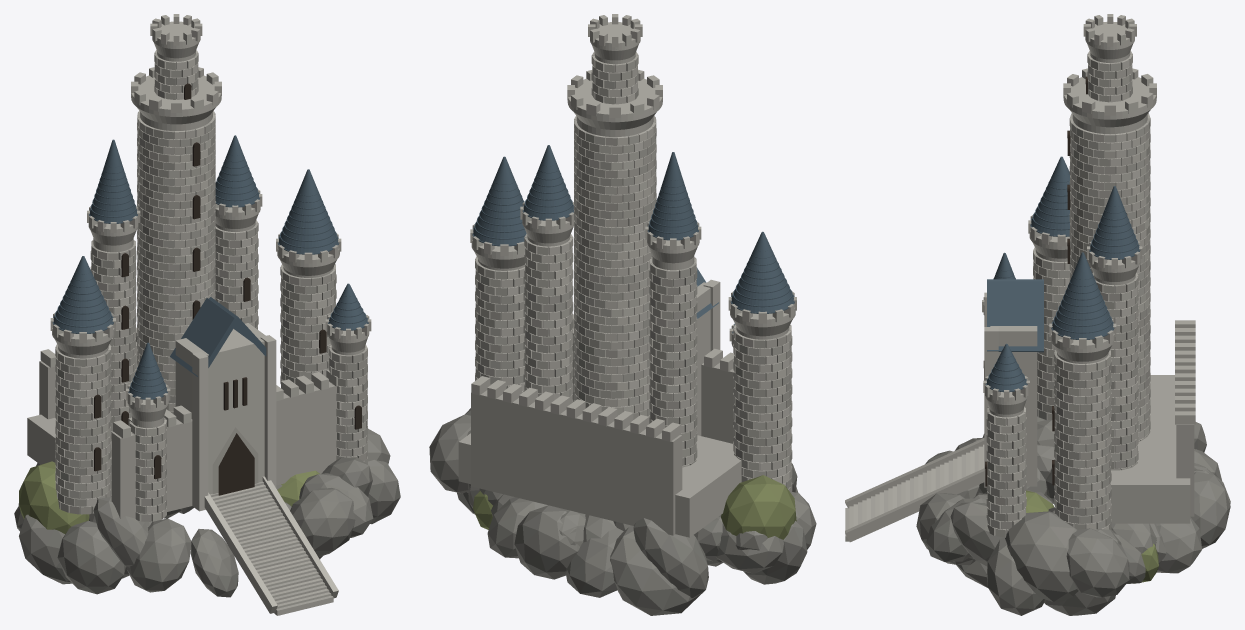
The model's file is Felsenburg.glb.
3 renders of one model, left to right at view 1: azimuth 30°, elevation 25°; view 2: azimuth 150°, elevation 25°; view 3: azimuth 270°, elevation 25°, orthographic. The views are drawn at different scales.
Parts seen in each view (by area): view 1: Cube.3326, Cube.3304, Cube.3298, Icosphere.001, Icosphere.021, Icosphere.037, Cone.022, Cube.3327, Icosphere.044, Cone.005, Icosphere.009, Cone.043 (+22 smaller); view 2: Cube.3312, Cube.3311, Icosphere.025, Icosphere.044, Icosphere.010, Icosphere.013, Cone.005, Cone.022, Icosphere.004, Cube.3298, Cone.043, Icosphere.020 (+16 smaller); view 3: Cube.3311, Icosphere.030, Icosphere.020, Cube.3329, Cone.022, Cube.3326, Icosphere.027, Icosphere.013, Cone.063, Icosphere.045, Cone.005, Icosphere.033 (+15 smaller).
Part boxes in pixels (x1,y1,x2,y2): Cube.3326: (175, 323, 265, 494); Cube.3304: (276, 381, 337, 485); Cube.3298: (111, 419, 192, 519); Icosphere.001: (57, 520, 125, 594); Icosphere.021: (126, 518, 191, 592); Icosphere.037: (290, 488, 355, 556); Cone.022: (279, 169, 338, 253); Cube.3327: (192, 352, 208, 511); Icosphere.044: (19, 461, 89, 533); Cone.005: (53, 256, 112, 332); Icosphere.009: (190, 529, 238, 597); Cone.043: (90, 139, 136, 222); Cube.3312: (471, 390, 682, 535); Cube.3311: (458, 433, 741, 537); Icosphere.025: (610, 526, 700, 615); Icosphere.044: (721, 475, 796, 539); Icosphere.010: (633, 518, 708, 598); Icosphere.013: (514, 505, 579, 579); Cone.005: (731, 231, 793, 312); Cone.022: (473, 156, 526, 244); Icosphere.004: (566, 528, 623, 597); Cube.3298: (701, 363, 733, 443); Cone.043: (648, 152, 697, 239); Icosphere.020: (429, 414, 470, 493); Cube.3311: (1111, 375, 1190, 523); Icosphere.030: (1005, 511, 1078, 601); Icosphere.020: (1066, 528, 1129, 597); Cube.3329: (987, 281, 1043, 352); Cone.022: (1052, 252, 1113, 338); Cube.3326: (990, 326, 1037, 486); Icosphere.027: (986, 537, 1044, 615); Icosphere.013: (1190, 471, 1230, 548); Cone.063: (1090, 186, 1139, 258); Icosphere.045: (950, 502, 1003, 566); Cone.005: (1031, 156, 1069, 235); Icosphere.033: (1156, 517, 1202, 573).
Bounding box in the file's own units: 12.67 × 17.96 × 11.85.
